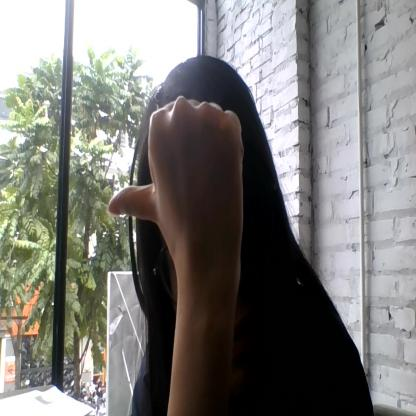right: (108, 94, 244, 242)
